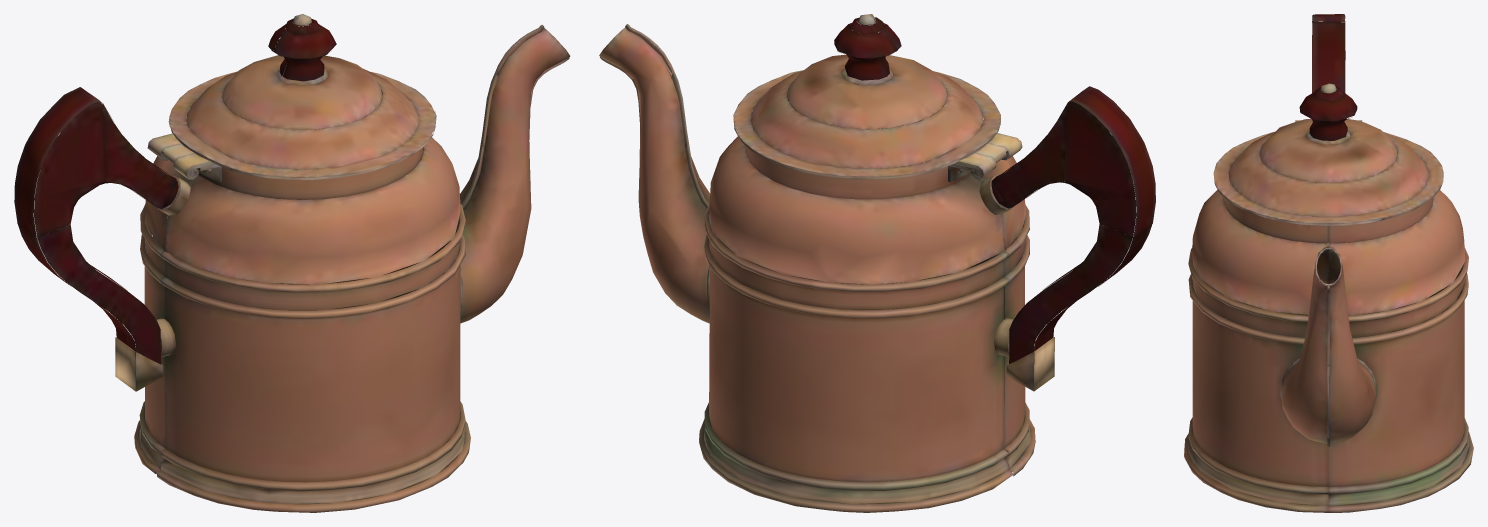
Rendered from obj_polished_tea_kettle.glb.
3 renders of one model, left to right at view 1: azimuth 30°, elevation 25°; view 2: azimuth 150°, elevation 25°; view 3: azimuth 270°, elevation 25°, orthographic. The views are drawn at different scales.
Parts seen in each view (by area): view 1: Tea_kettle_Krishka.001_Material_0; view 2: Tea_kettle_Krishka.001_Material_0; view 3: Tea_kettle_Krishka.001_Material_0.
Part boxes in pixels (x1,y1,x2,y2): Tea_kettle_Krishka.001_Material_0: (14,14,570,512); Tea_kettle_Krishka.001_Material_0: (599,14,1155,512); Tea_kettle_Krishka.001_Material_0: (1184,14,1473,512).
Size of the model in its own units: 0.3465 by 0.2604 by 0.1852.
Materials: 1 (1 with a texture image).
